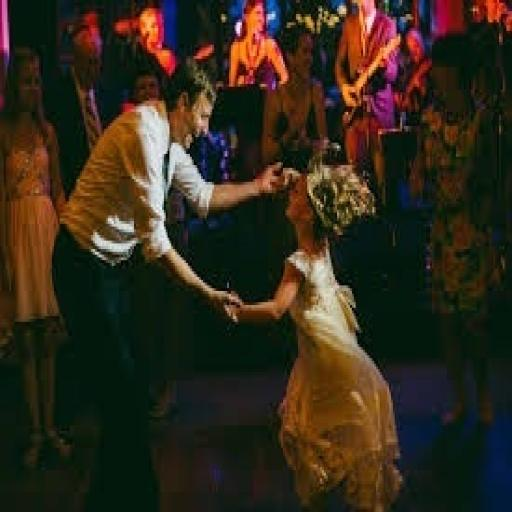dancing: (50, 56, 289, 509), (221, 154, 406, 509)
